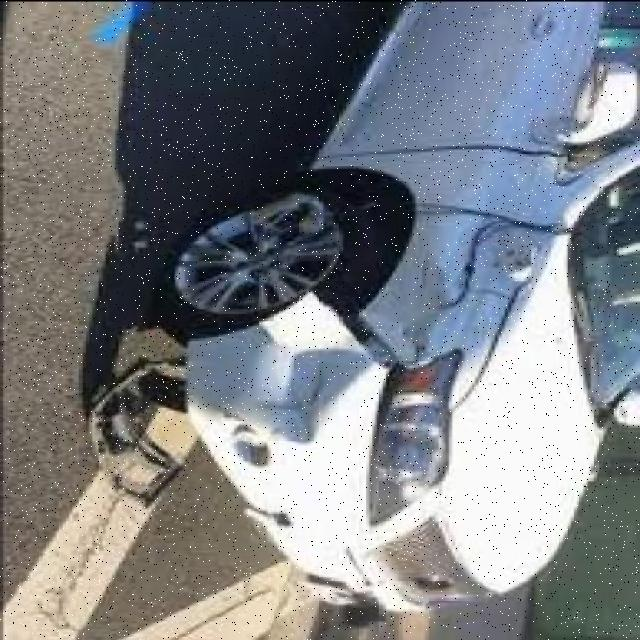damage: (173, 182, 574, 446)
